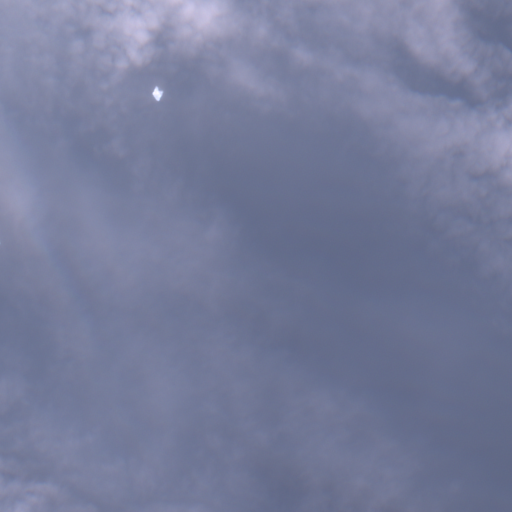Iceberg: (152, 86, 162, 100)
